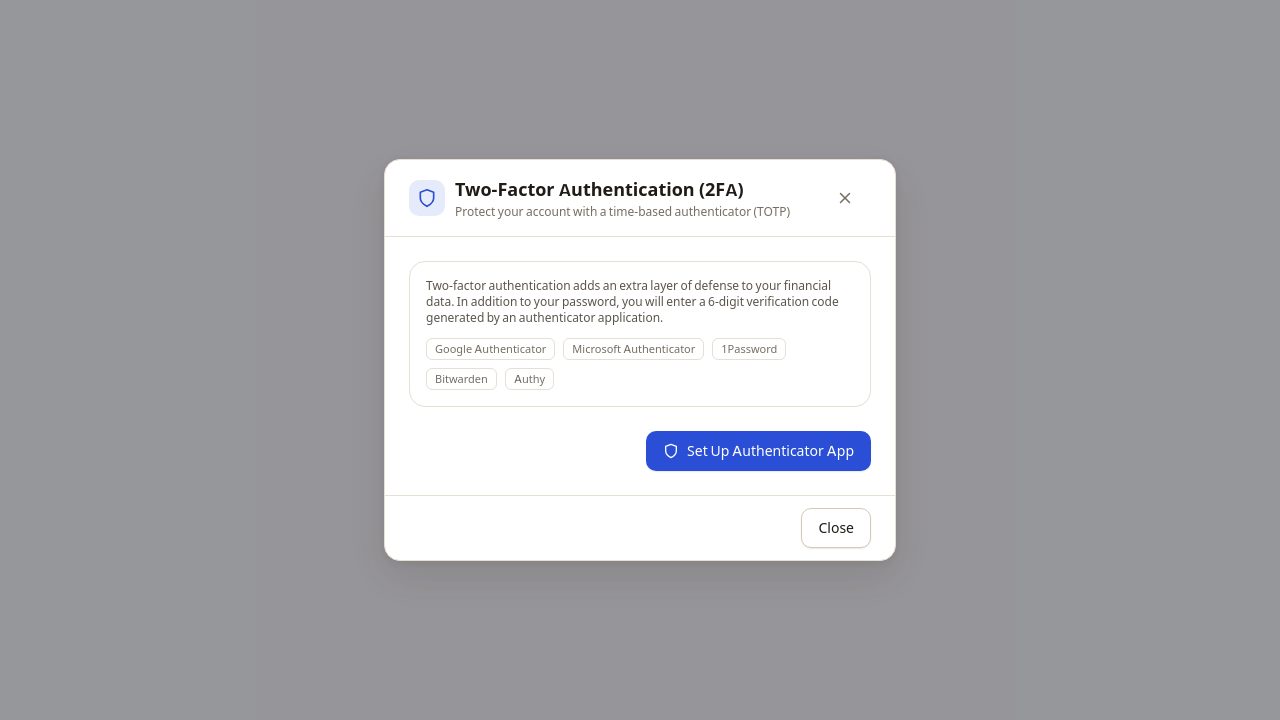
it: Two-Factor Authentication (AUTH-14) › generates secret key and advances to scan step
Click the button "Set Up Authenticator App" at (759, 451), box x1=646 y1=431 x2=871 y2=471
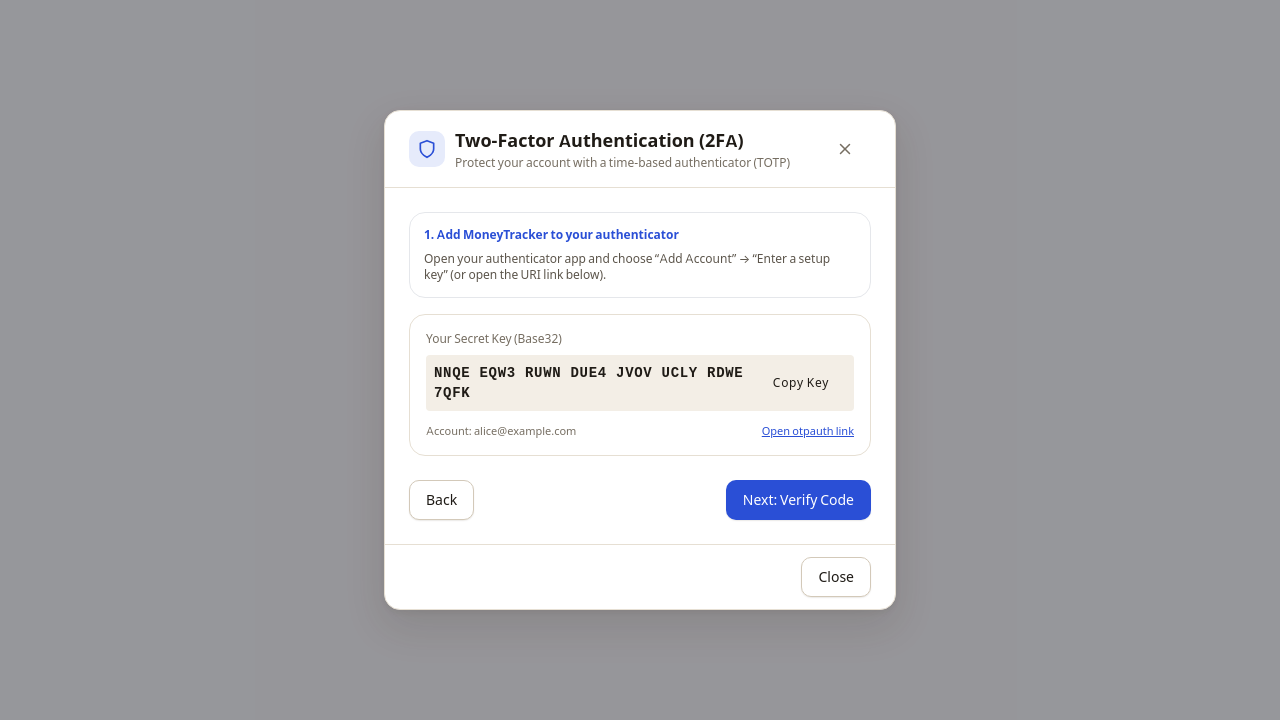
Check: the text "Your Secret Key (Base32)" is shown, box x1=426 y1=331 x2=562 y2=346
Check: the button "Copy Key" is shown, box x1=756 y1=369 x2=846 y2=397
Check: the link "Open otpauth link" is shown, box x1=762 y1=423 x2=854 y2=439
